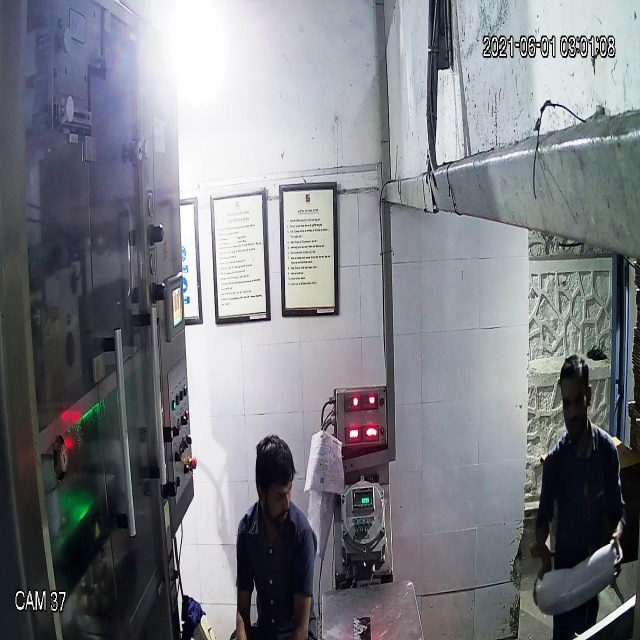Sin_gafas: (252, 478, 297, 510), (558, 384, 594, 419)
